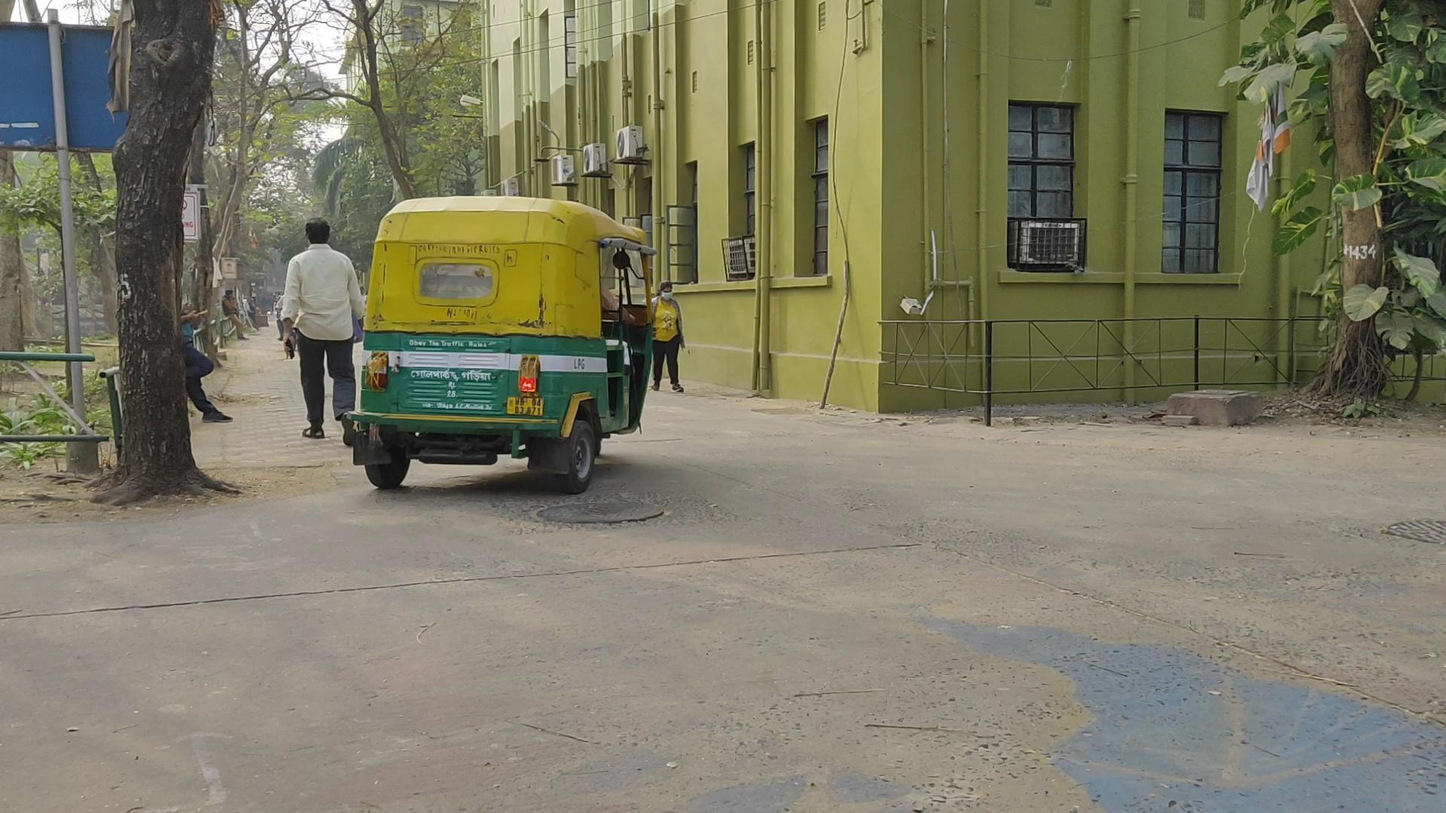Auto: (362, 197, 657, 492)
